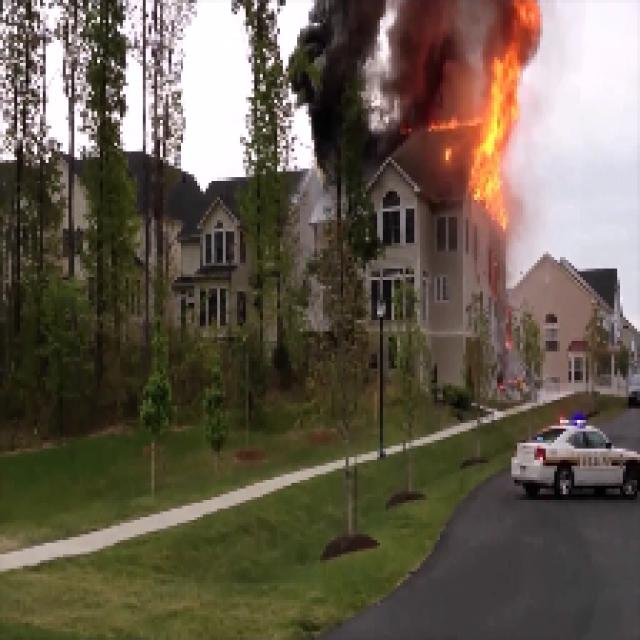fire: (479, 56, 515, 204)
smoke: (329, 5, 472, 123)
